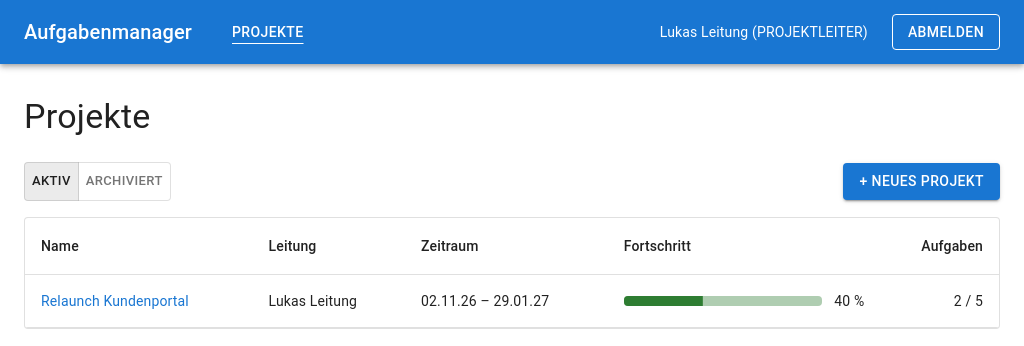
Test case: Projektübersicht (wf_02) › wechselt zum Filter Archiviert
Click the button "Archiviert". click: (124, 181)
box: [78,162,171,201]
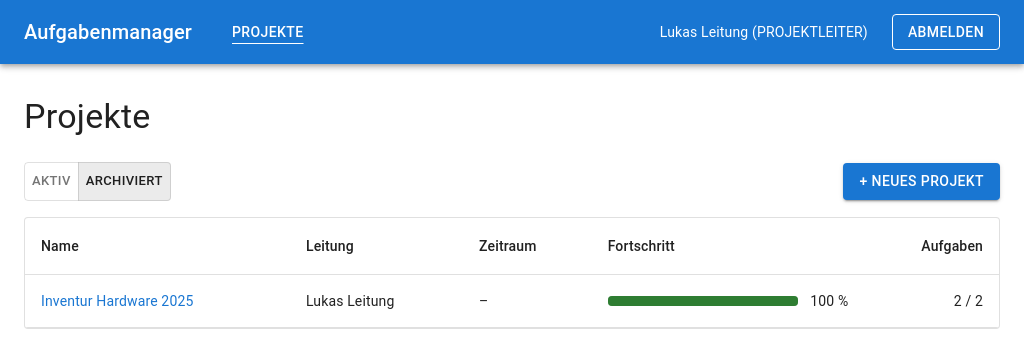
Expected: the text "–" is shown, [463,274,592,327]
Expected: the link "Inventur Hardware 2025" is shown, [41,293,193,309]
Expected: the link "Relaunch Kundenportal" is gone
